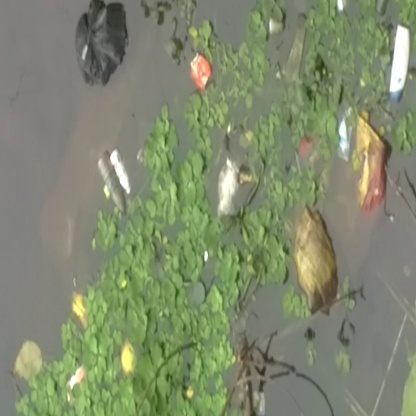bottle: (383, 22, 415, 104), (95, 150, 129, 213)
plastic-bag: (289, 197, 346, 313)
